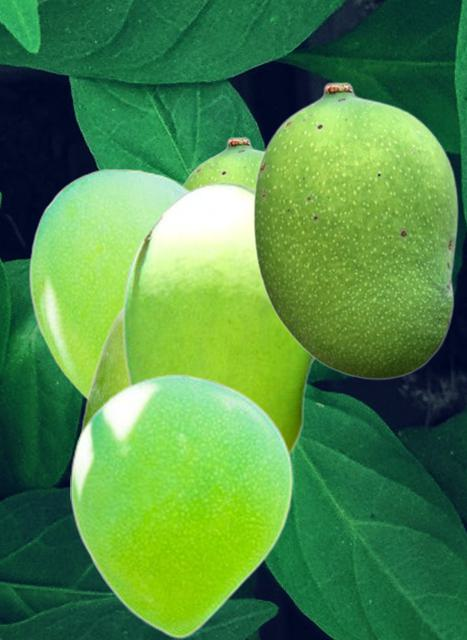green_mango: (252, 81, 457, 379), (70, 373, 292, 638), (121, 180, 315, 457), (28, 168, 189, 400), (79, 308, 127, 593), (183, 136, 262, 188)
